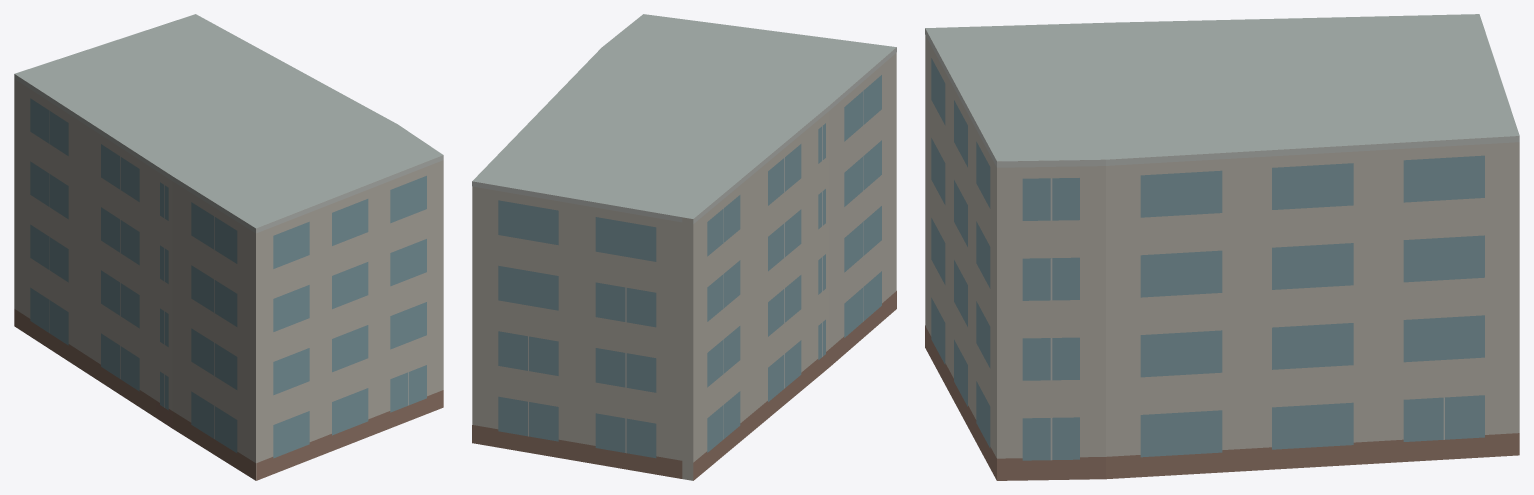
The model's file is survey-upis-32918256.glb.
The picture shows the model from 3 angles, left to right: view 1: azimuth 30°, elevation 25°; view 2: azimuth 150°, elevation 25°; view 3: azimuth 270°, elevation 25°; orthographic projection. The views are drawn at different scales.
Parts seen in each view (by area): view 1: survey-upis-32918256.tmp; view 2: survey-upis-32918256.tmp; view 3: survey-upis-32918256.tmp.
Part boxes in pixels (x1,y1,x2,y2): survey-upis-32918256.tmp: [14, 14, 443, 480]; survey-upis-32918256.tmp: [472, 14, 896, 480]; survey-upis-32918256.tmp: [925, 14, 1519, 480].
Bounding box in the file's own units: 12.24 × 12.35 × 20.85.
